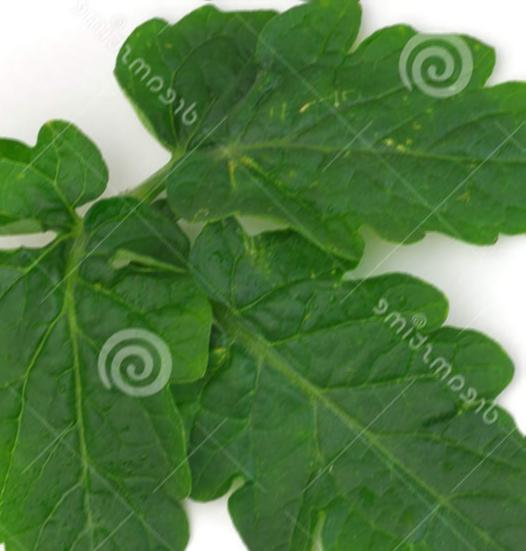Tomato leaf: (102, 180, 526, 551), (16, 0, 526, 288), (0, 217, 243, 551)
